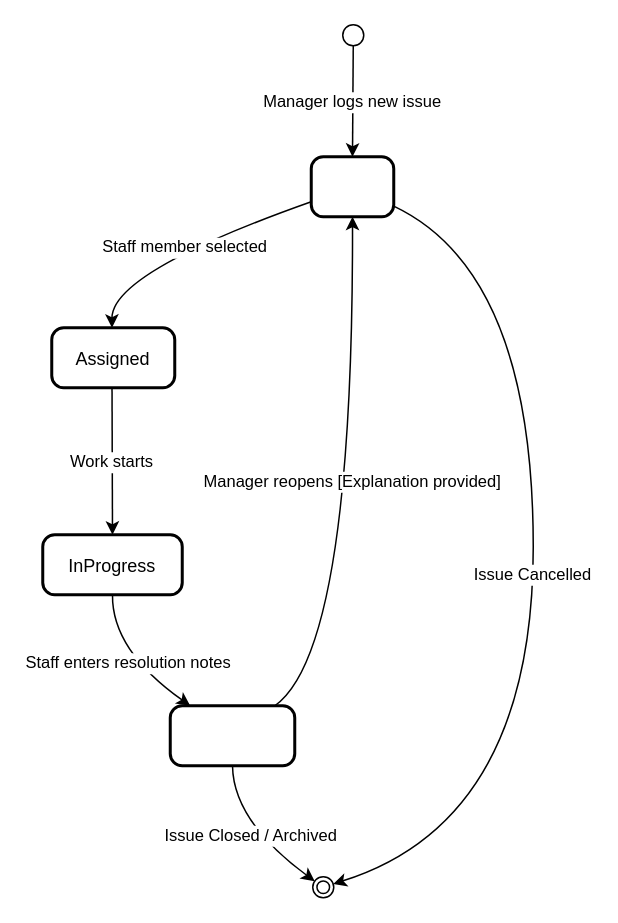
Some shapes in this 618 by 923 pixel diagram are drawn without their labels. Here are the shapes that lost their labels. From the top down, the centre of each, then its label:
the point at 351,186: Open
the point at 232,735: Resolved
